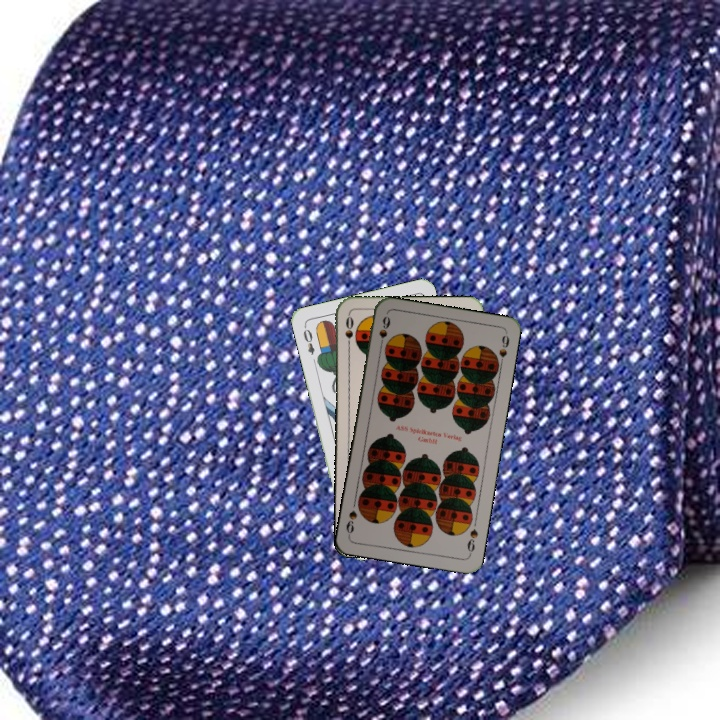EO: (299, 322, 317, 357)
S9: (375, 312, 393, 352), (463, 525, 481, 558)
SO: (341, 311, 356, 352)
